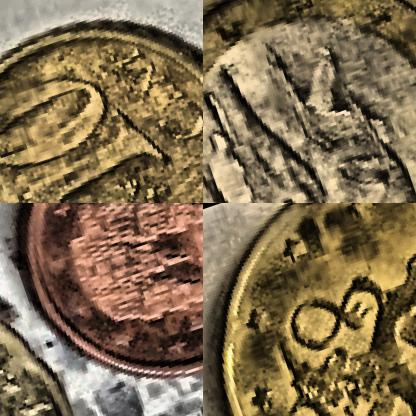coin: (203, 203, 415, 415), (203, 0, 415, 202), (0, 203, 202, 415), (0, 0, 202, 202)
